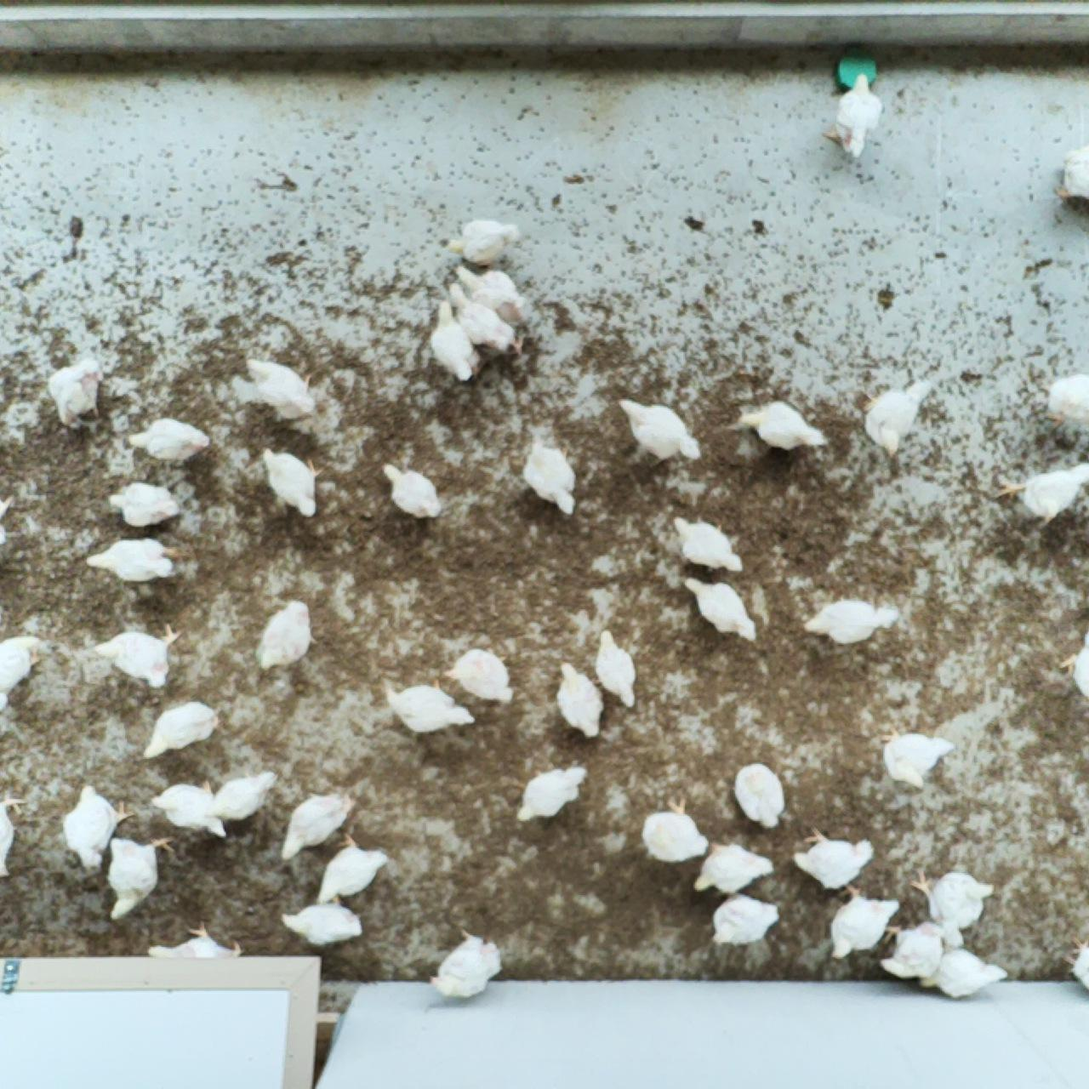chicken: (61, 781, 137, 876), (104, 830, 180, 923), (94, 619, 187, 692), (996, 457, 1089, 529), (443, 279, 526, 359), (914, 867, 998, 945), (860, 377, 939, 458), (826, 883, 903, 966), (314, 831, 393, 910), (278, 786, 356, 864), (616, 395, 703, 463), (424, 927, 506, 999), (788, 827, 878, 892), (821, 70, 884, 162), (382, 676, 477, 737), (86, 535, 195, 587), (679, 574, 761, 643), (140, 698, 224, 763), (918, 946, 1013, 1002), (547, 658, 609, 743), (734, 400, 828, 455), (242, 355, 319, 422), (253, 597, 320, 674), (513, 759, 591, 825), (520, 432, 580, 517), (279, 891, 365, 949), (257, 445, 324, 519), (804, 597, 901, 648), (881, 728, 960, 790), (427, 296, 483, 382), (668, 512, 745, 574), (642, 795, 711, 863), (455, 267, 532, 327), (879, 919, 950, 984), (443, 213, 521, 271), (443, 645, 515, 707), (155, 779, 229, 838), (125, 415, 214, 464), (693, 843, 778, 894), (710, 891, 784, 949), (379, 459, 446, 521), (145, 923, 245, 964), (593, 627, 641, 710), (732, 760, 786, 833), (48, 357, 103, 428), (203, 769, 279, 820), (103, 480, 183, 528), (0, 632, 48, 710), (1044, 372, 1089, 434), (1058, 629, 1089, 705), (1058, 141, 1089, 202), (0, 794, 23, 876), (1065, 936, 1089, 997)
